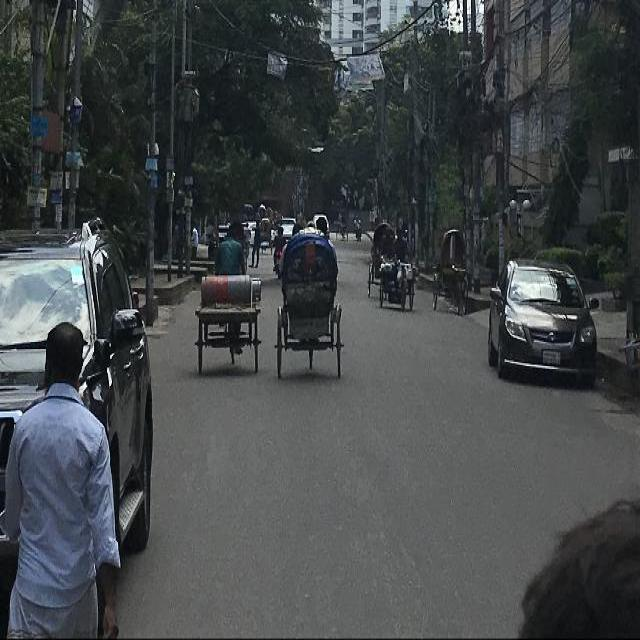motorbike: (272, 228, 284, 279), (353, 214, 361, 239)
rickshaw: (274, 227, 340, 373), (434, 228, 468, 310), (367, 220, 393, 292), (232, 221, 248, 271), (260, 219, 272, 251), (336, 212, 348, 238)
suv: (5, 227, 154, 592)
